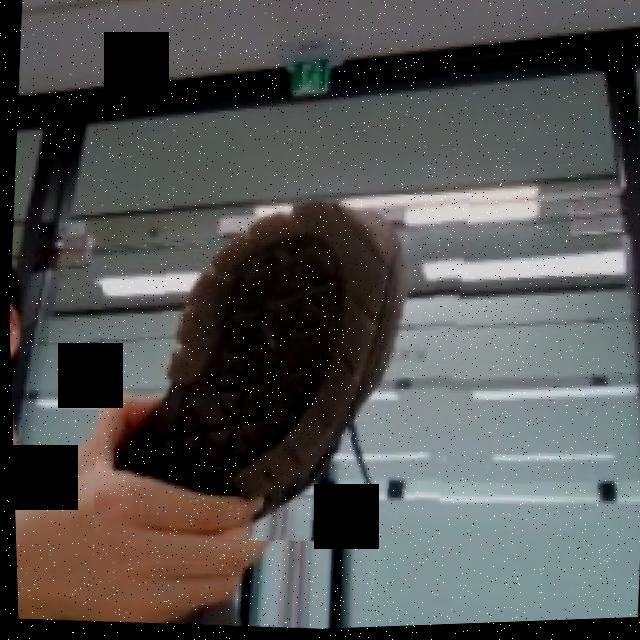shoe: (80, 174, 477, 562)
